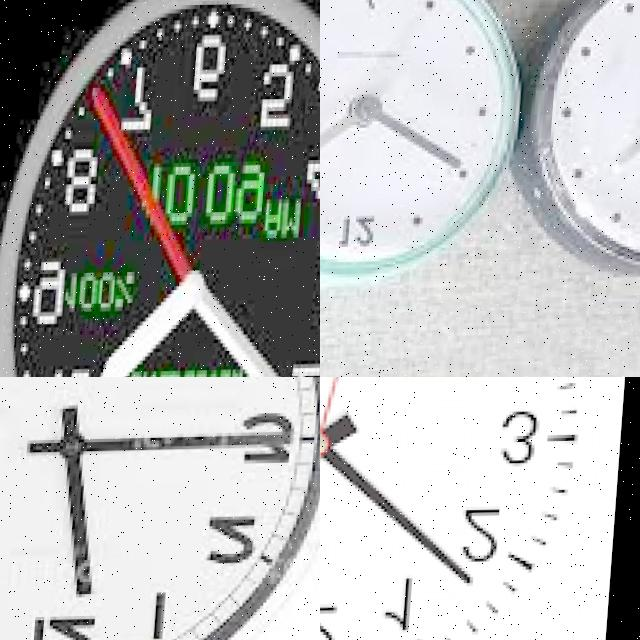Clocks-images: (1, 1, 321, 378), (1, 378, 321, 640), (321, 378, 606, 640), (321, 1, 533, 289), (529, 1, 640, 282)
